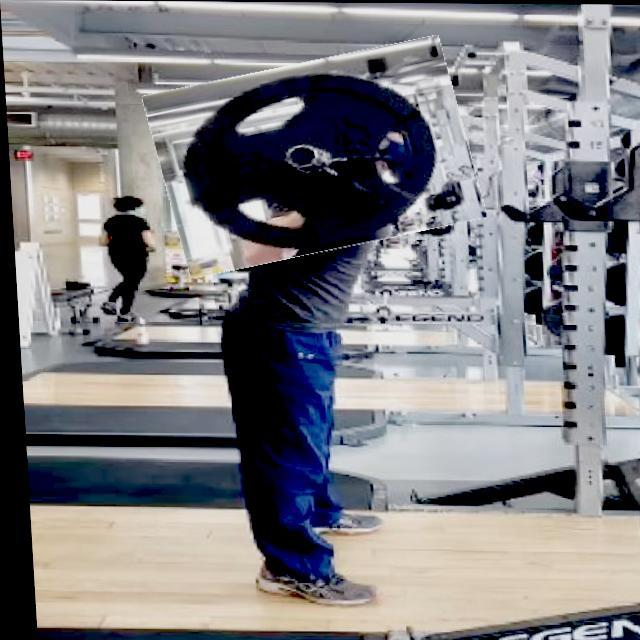barbell: (147, 49, 480, 266)
